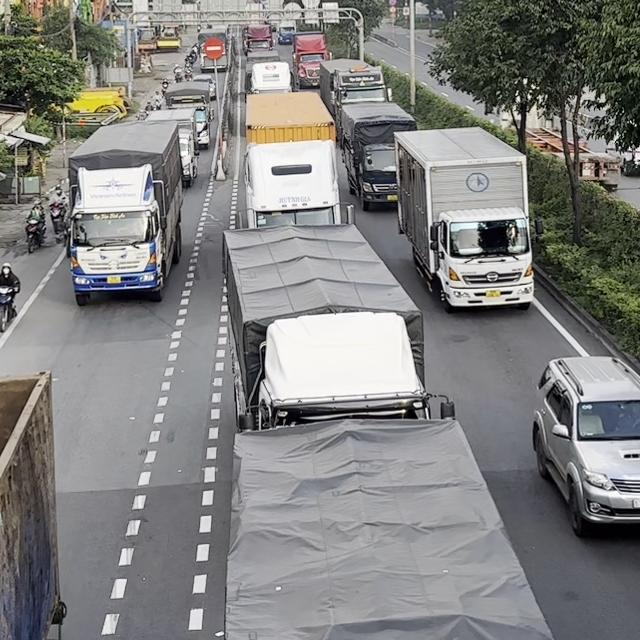car: (531, 354, 639, 537), (277, 24, 295, 44)
motorcycle: (0, 283, 19, 333), (24, 216, 46, 253), (48, 200, 65, 234), (173, 64, 182, 82), (183, 65, 192, 81), (161, 78, 169, 93)
truck: (226, 415, 555, 640), (221, 215, 450, 431), (393, 125, 534, 312), (64, 119, 184, 305), (239, 91, 342, 228), (337, 100, 418, 211), (318, 57, 391, 141), (143, 109, 199, 187), (163, 82, 213, 148), (291, 31, 332, 89), (244, 60, 292, 102), (197, 30, 230, 72), (242, 24, 274, 53)
